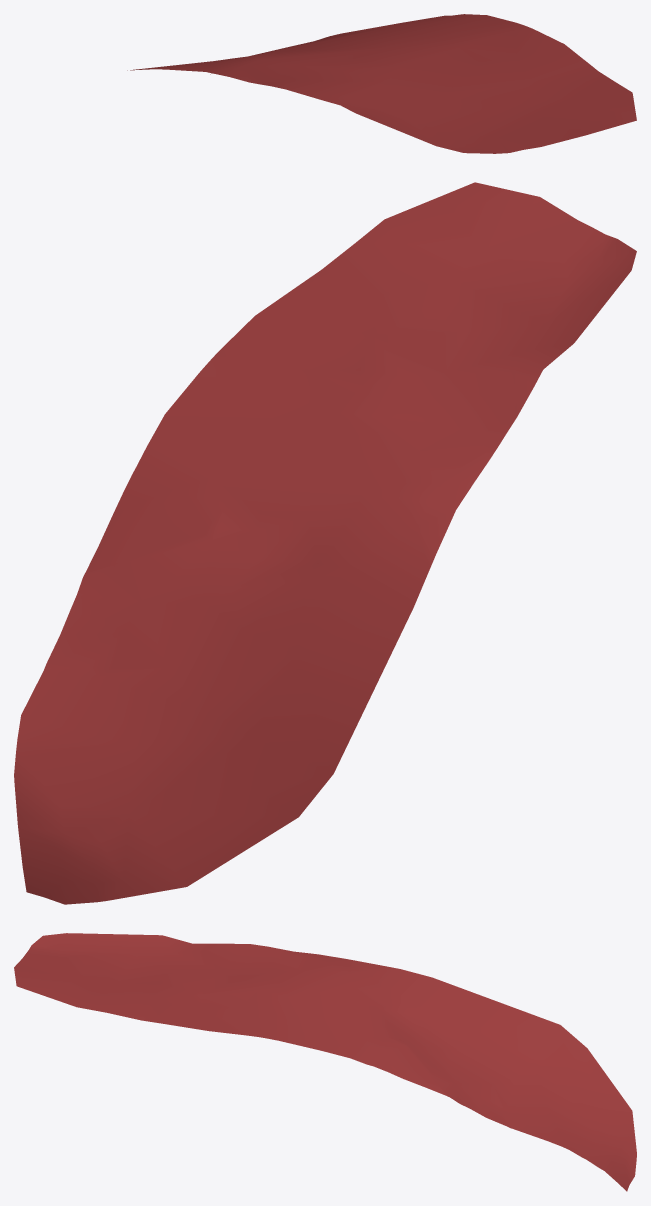
File: transverse-part-of-trapezius-muscle-ol.glb
The picture shows the model from 3 angles, top to bottom: view 1: azimuth 30°, elevation 25°; view 2: azimuth 150°, elevation 25°; view 3: azimuth 270°, elevation 25°; orthographic projection. The views are drawn at different scales.
Parts seen in each view (by area): view 1: Transverse part of trapezius muscle.ol; view 2: Transverse part of trapezius muscle.ol; view 3: Transverse part of trapezius muscle.ol.
Part boxes in pixels (x1,y1,x2,y2): Transverse part of trapezius muscle.ol: (127,14,636,153); Transverse part of trapezius muscle.ol: (14,182,636,904); Transverse part of trapezius muscle.ol: (14,933,636,1191).
Size of the model in its own units: 0.0149 by 0.0137 by 0.0355.
